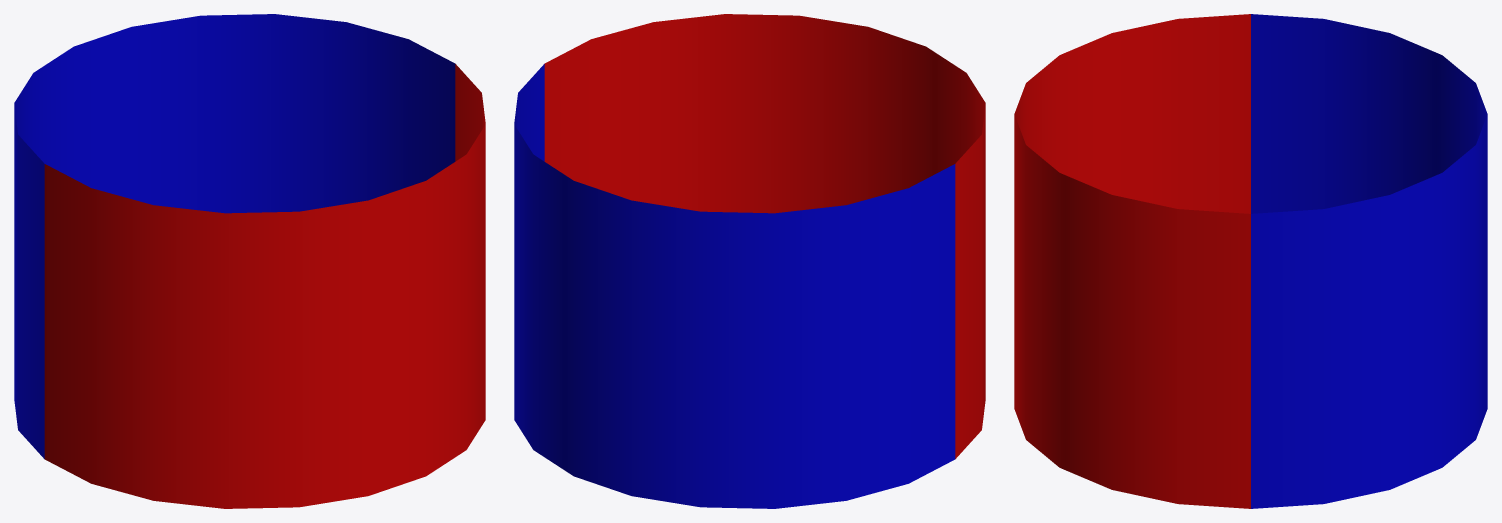
3 renders of one model, left to right at view 1: azimuth 30°, elevation 25°; view 2: azimuth 150°, elevation 25°; view 3: azimuth 270°, elevation 25°, orthographic.
Visible parts, largest first — view 1: Cylinder_FL; view 2: Cylinder_FL; view 3: Cylinder_FL.
Part boxes in pixels (x1,y1,x2,y2): Cylinder_FL: [14, 14, 485, 508]; Cylinder_FL: [514, 14, 985, 508]; Cylinder_FL: [1014, 14, 1487, 508].
Bounding box in the file's own units: 56.12 × 38.61 × 56.12.
